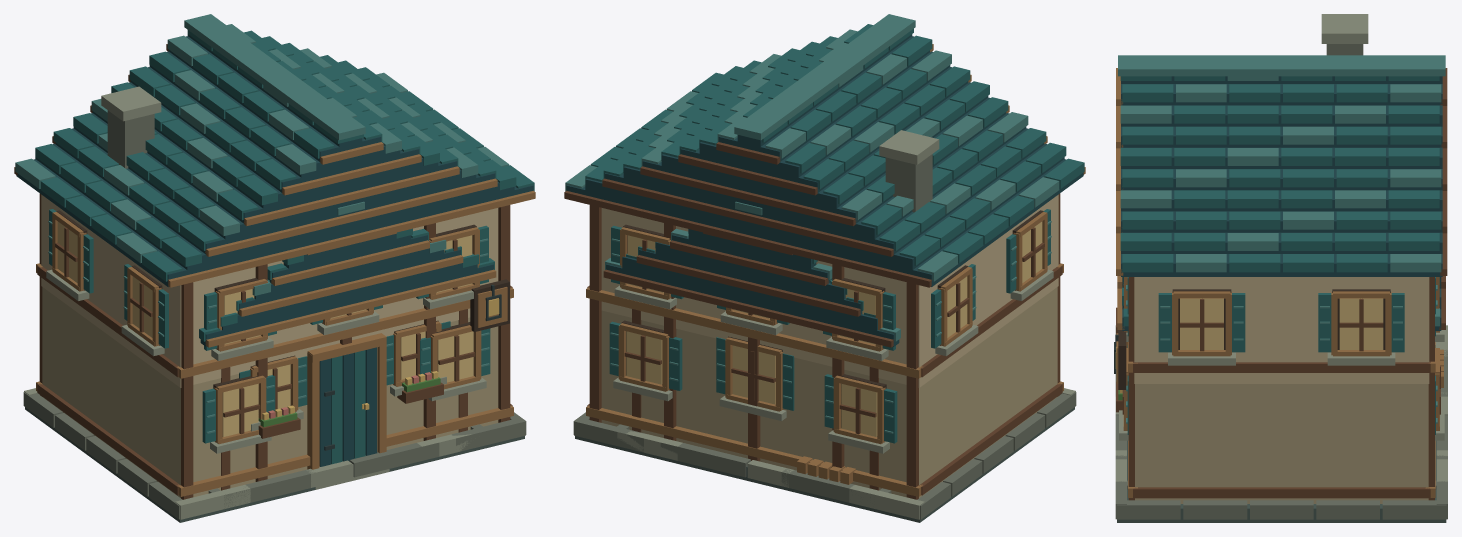
The model's file is village-kit.glb.
The picture shows the model from 3 angles, left to right: view 1: azimuth 30°, elevation 25°; view 2: azimuth 150°, elevation 25°; view 3: azimuth 270°, elevation 25°; orthographic projection. The views are drawn at different scales.
Parts seen in each view (by area): view 1: village-inn-body, village-cottage-body; view 2: village-inn-body, village-cottage-body; view 3: village-inn-body, village-cottage-body.
Part boxes in pixels (x1=…): village-inn-body: x1=14, y1=14, x2=535, y2=522; village-cottage-body: x1=199, y1=201, x2=496, y2=513; village-inn-body: x1=564, y1=14, x2=1085, y2=522; village-cottage-body: x1=603, y1=201, x2=900, y2=509; village-inn-body: x1=1114, y1=14, x2=1447, y2=522; village-cottage-body: x1=1115, y1=276, x2=1447, y2=489.
Size of the model in its own units: 6.79 by 6.16 by 5.02.
